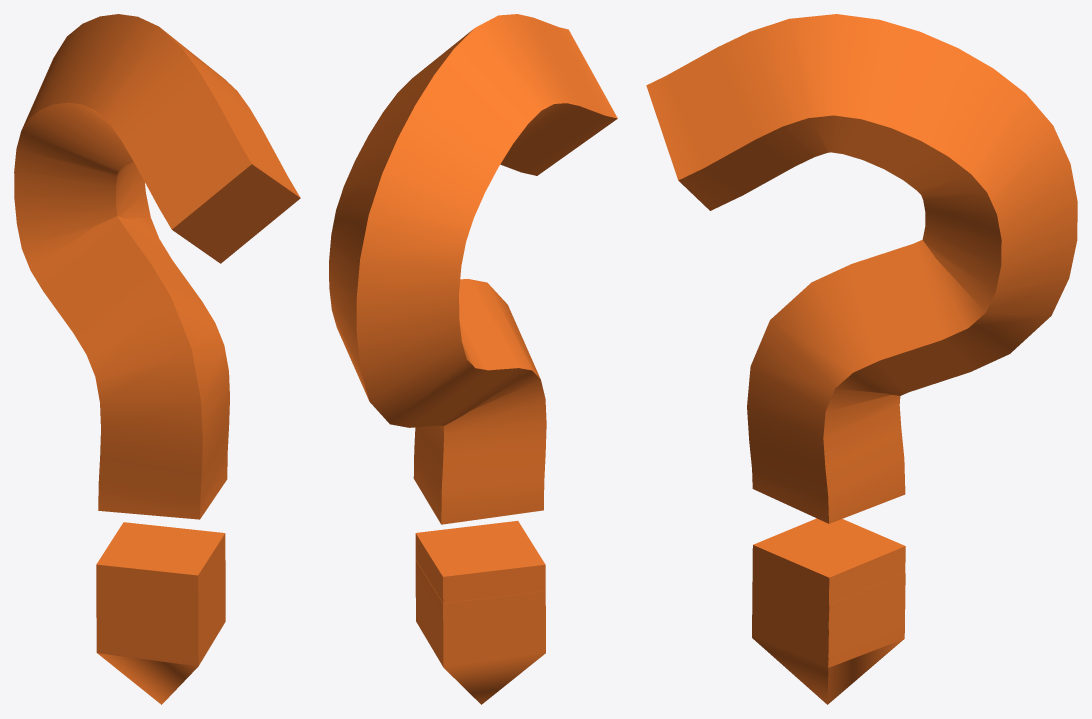
Rendered from QuestionMark.fbx.
The picture shows the model from 3 angles, left to right: view 1: azimuth 30°, elevation 25°; view 2: azimuth 150°, elevation 25°; view 3: azimuth 270°, elevation 25°; orthographic projection. The views are drawn at different scales.
Parts seen in each view (by area): view 1: root (×2); view 2: root (×2); view 3: root (×2).
Boxes of the visible parts, left/top/right/bottom form: root (×2): left=14, top=14, right=300, bottom=704; root (×2): left=329, top=14, right=617, bottom=704; root (×2): left=646, top=14, right=1077, bottom=704.
Bounding box in the file's own units: 0.0609 × 0.2998 × 0.1694.
Materials: 2 (2 with a texture image).
